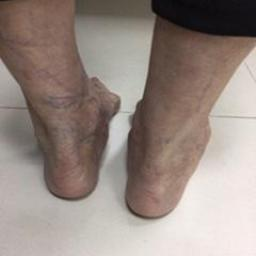Back View -Both Feet-: (6, 68, 230, 230)
